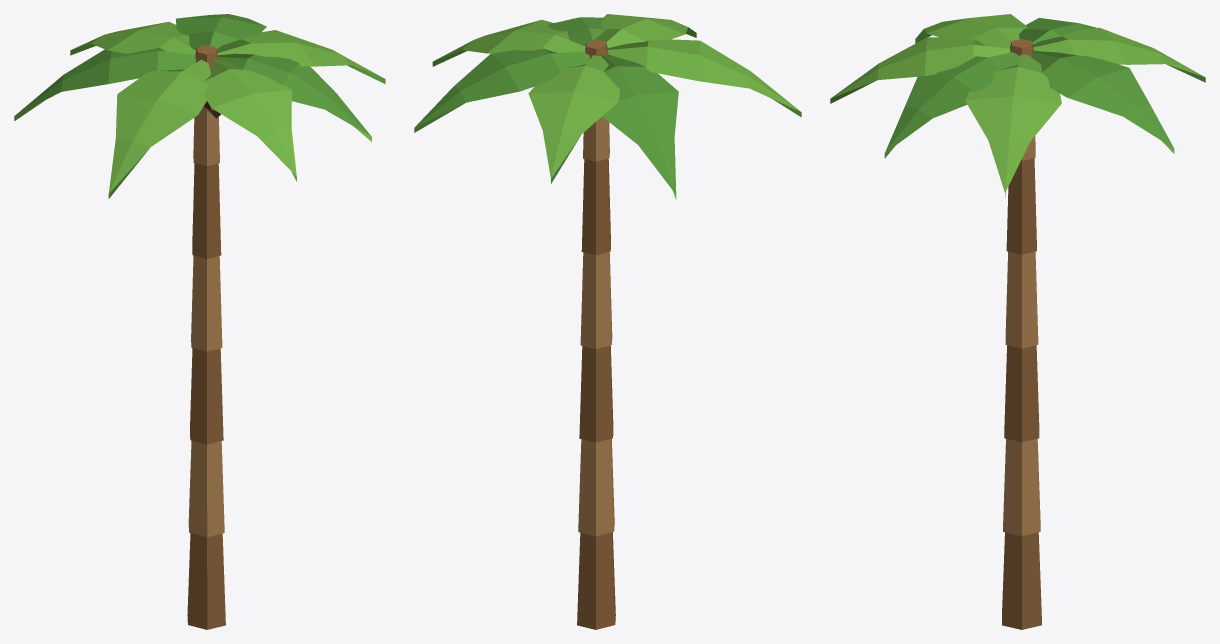
File: palm-straight.glb
3 renders of one model, left to right at view 1: azimuth 30°, elevation 25°; view 2: azimuth 150°, elevation 25°; view 3: azimuth 270°, elevation 25°, orthographic.
Parts seen in each view (by area): view 1: palm-straight; view 2: palm-straight; view 3: palm-straight.
Part boxes in pixels (x1=…): palm-straight: x1=14, y1=14, x2=385, y2=629; palm-straight: x1=414, y1=14, x2=801, y2=629; palm-straight: x1=830, y1=14, x2=1205, y2=629.
Bounding box in the file's own units: 2.48 × 4.21 × 2.48.
Materials: 1 (1 with a texture image).
